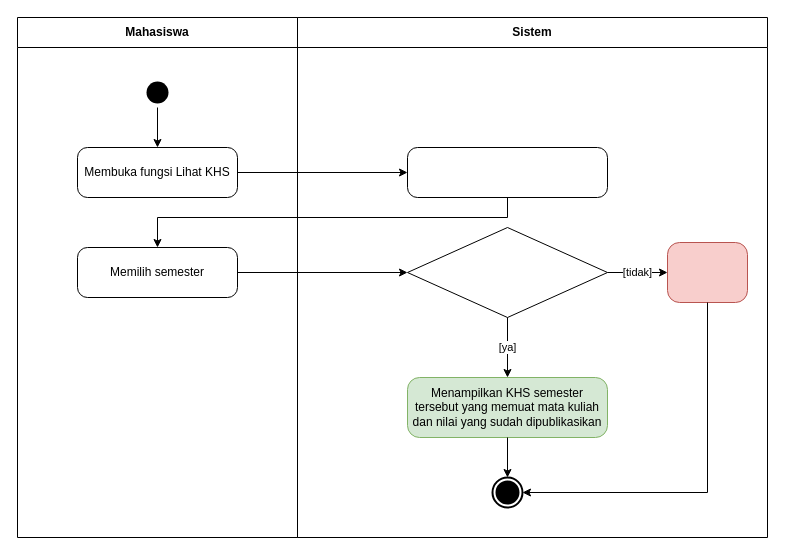
The diagram is 785 pixels wide and 555 high, and some of its shapes have lost their labels. Here are the shapes that lost their labels. From the top down, the centre of each, then its label:
point (507, 172): Menampilkan daftar semester
point (507, 272): Nilai pada semester tersebut sudah dipublikasikan?
point (707, 272): Menampilkan pesan belum ada nilai yang dipublikasikan
